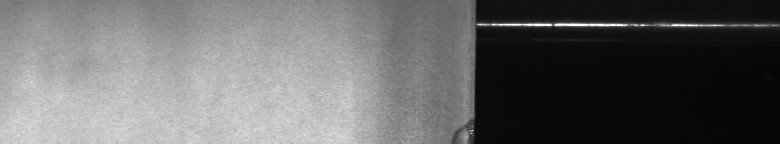hb: (444, 119, 464, 136)
